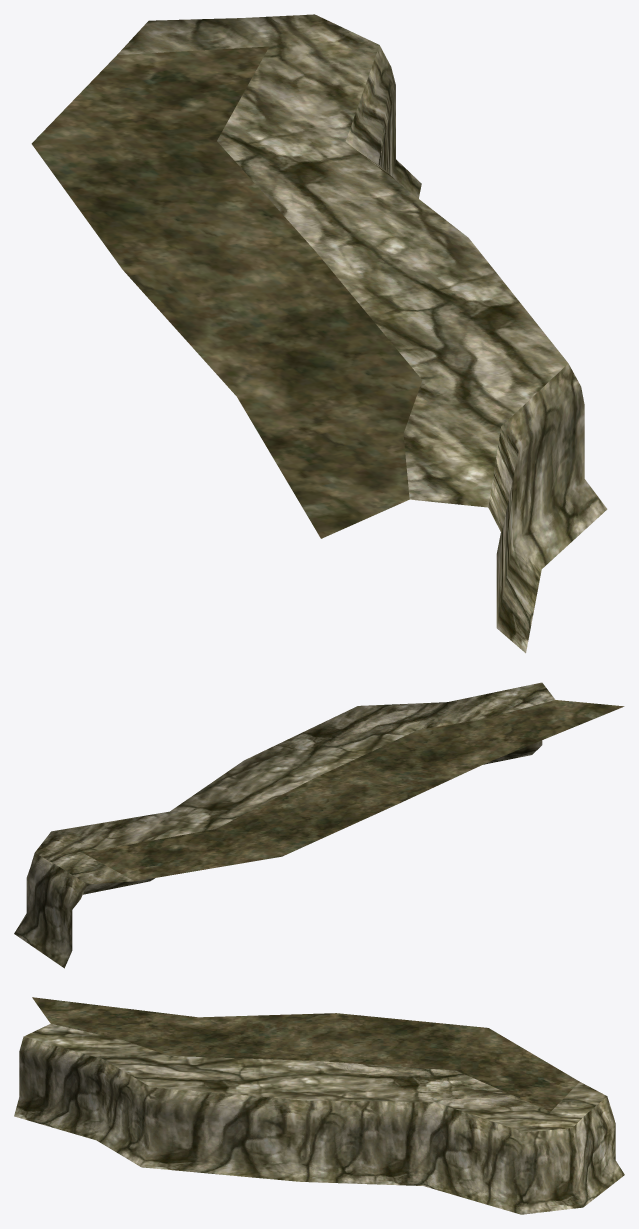
The model's file is CB_NEWPLAYSURFACE_CB_PLAYSURFACE82.fbx.
3 views of the same model, one above another, from view 1: azimuth 30°, elevation 25°; view 2: azimuth 150°, elevation 25°; view 3: azimuth 270°, elevation 25° (orthographic). The views are drawn at different scales.
Parts seen in each view (by area): view 1: CB_NEWPLAYSURFACE_CB_PLAYSURFACE82; view 2: CB_NEWPLAYSURFACE_CB_PLAYSURFACE82; view 3: CB_NEWPLAYSURFACE_CB_PLAYSURFACE82.
Boxes of the visible parts, <box> form: CB_NEWPLAYSURFACE_CB_PLAYSURFACE82: <box>31,14,607,653</box>; CB_NEWPLAYSURFACE_CB_PLAYSURFACE82: <box>14,682,624,968</box>; CB_NEWPLAYSURFACE_CB_PLAYSURFACE82: <box>14,997,624,1214</box>.
Bounding box in the file's own units: 148456 × 40186 × 266129.
3 materials, 3 textured.
